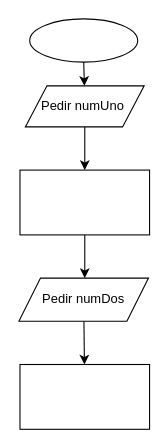
This 168x448 diagram has some shape labels left out. The shapes that lost their labels are listed below. From the top down, each one's box as (x1, y1, x2, y2) in pixels, then its label:
(29, 18, 138, 62): inicio programa
(19, 169, 150, 235): transformar de string a numero
